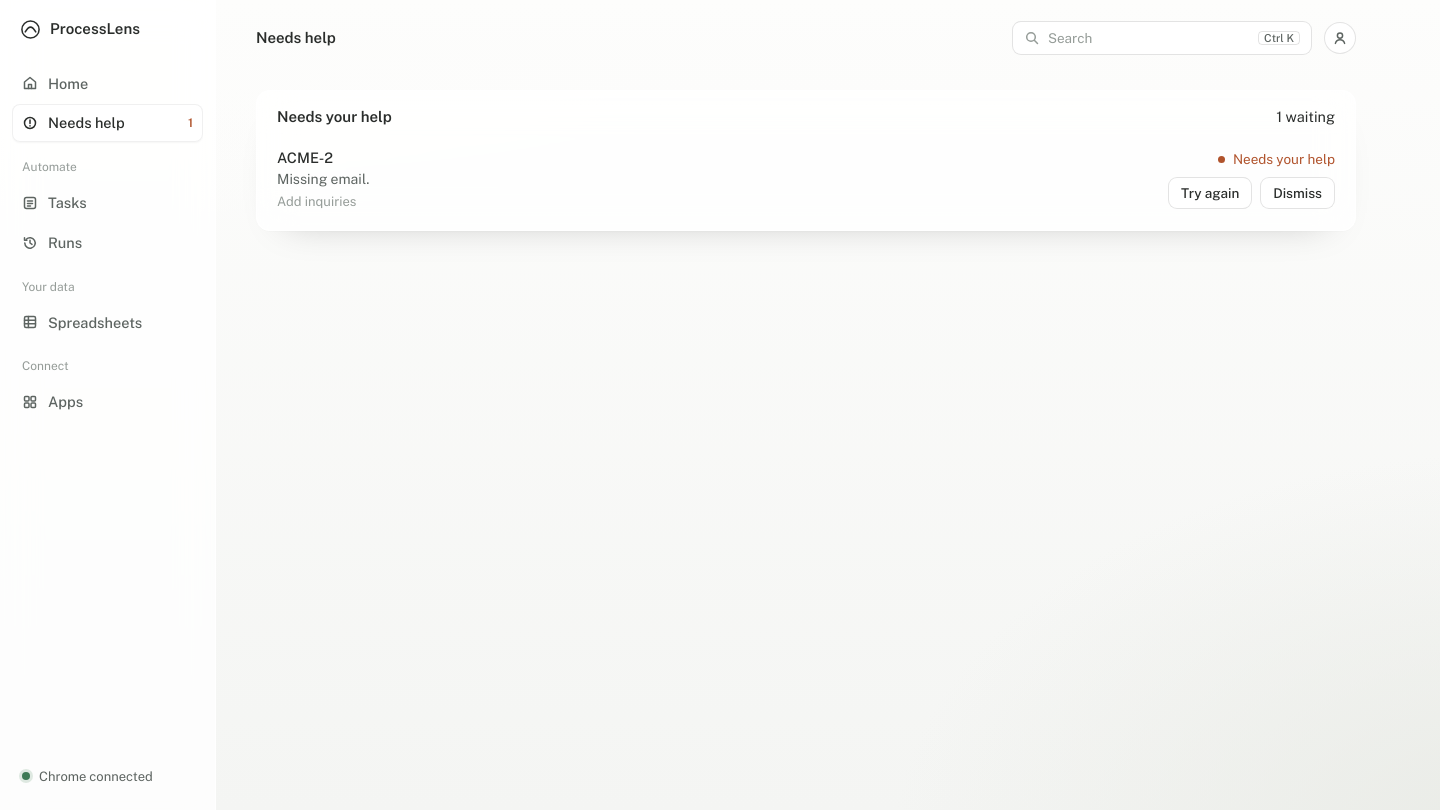
Test case: a refusal is shown in plain words too › Needs help says what happened, not the ledger's own sentence, when the API answers 409
The image size is (1440, 810).
Click the button with class "record-requeue": (1210, 193) [1168,177,1252,209]
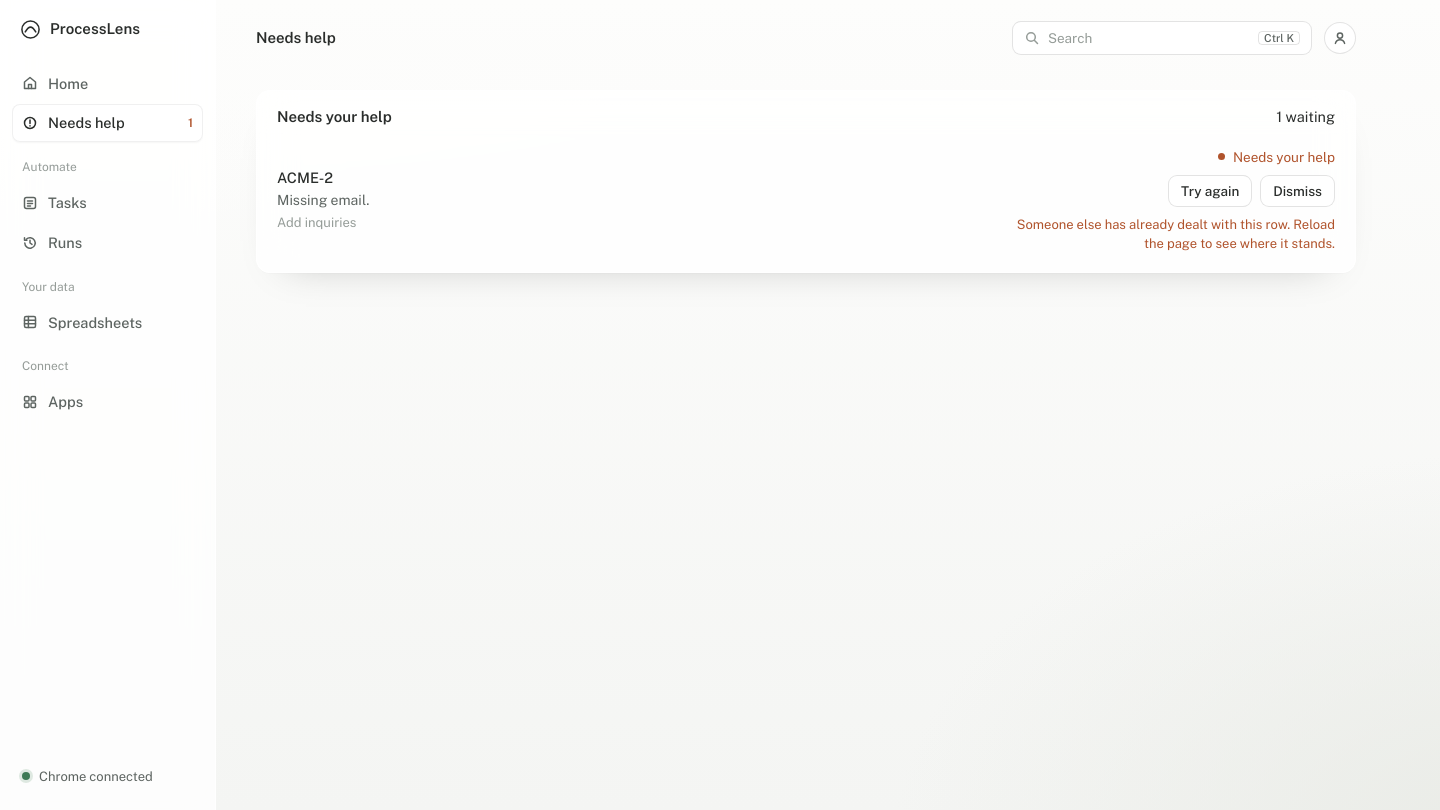
Result: the text "already dealt with this row" is shown at [1017,217,1335,251]
